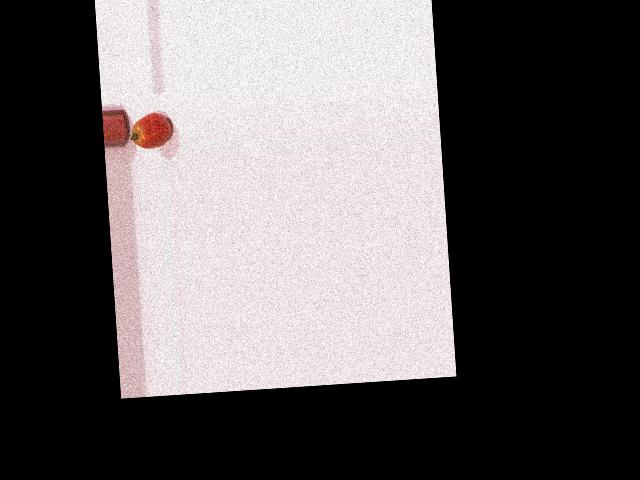tomato: (130, 111, 171, 149)
